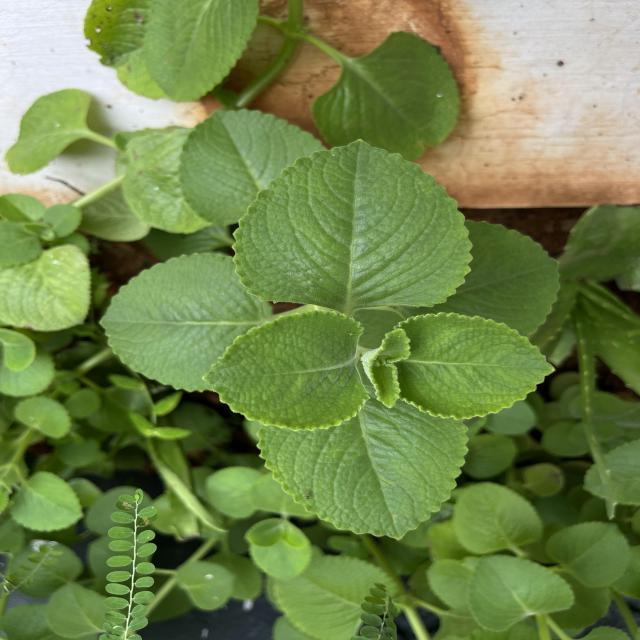Plectranthus barbatus: (229, 137, 475, 308), (253, 418, 472, 544), (98, 252, 274, 396), (198, 308, 372, 433), (310, 31, 462, 168), (387, 310, 561, 422), (178, 108, 328, 228), (464, 554, 576, 632), (0, 243, 93, 333), (4, 90, 92, 177), (452, 480, 544, 554), (544, 519, 632, 588), (7, 469, 87, 533)
